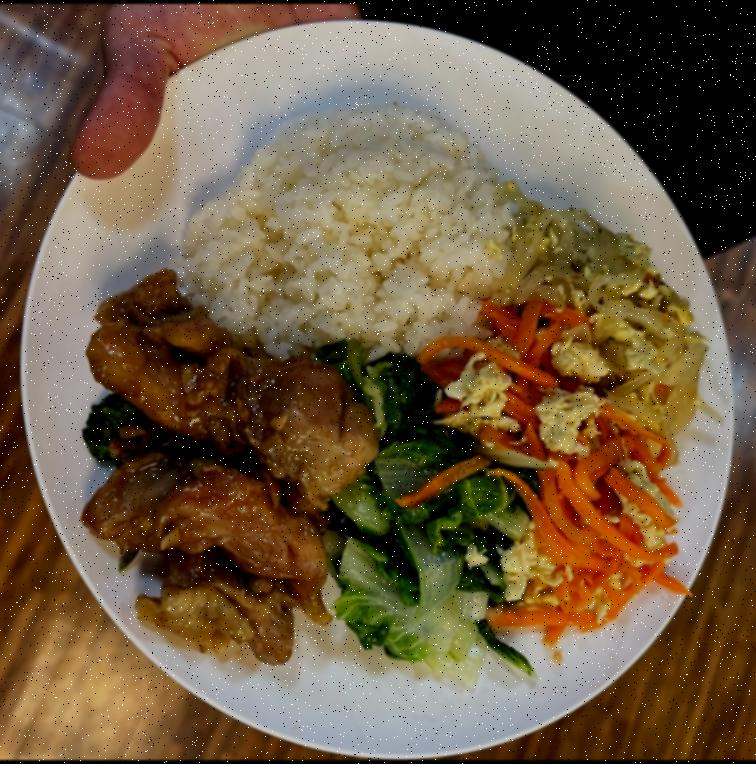plate: (13, 4, 737, 755)
side dish: (444, 316, 680, 627), (332, 346, 526, 682), (513, 212, 710, 452)
three cup chicken: (91, 273, 366, 676)
white rice: (184, 116, 530, 368)
